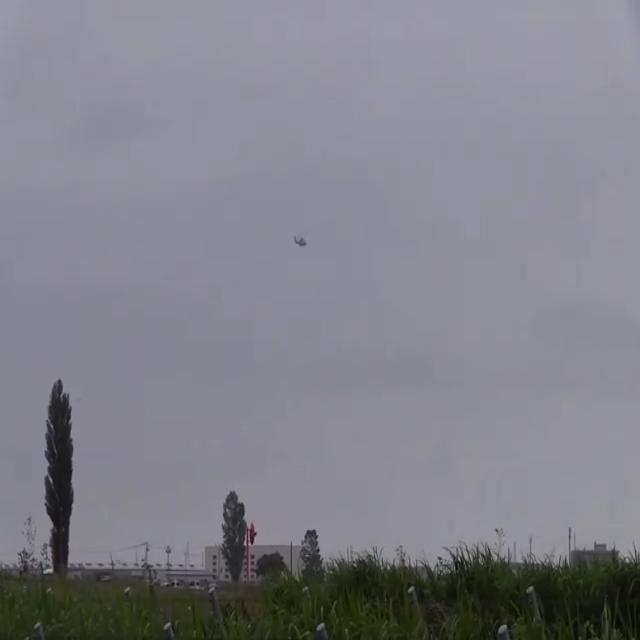Helicopter: (289, 228, 313, 252)
